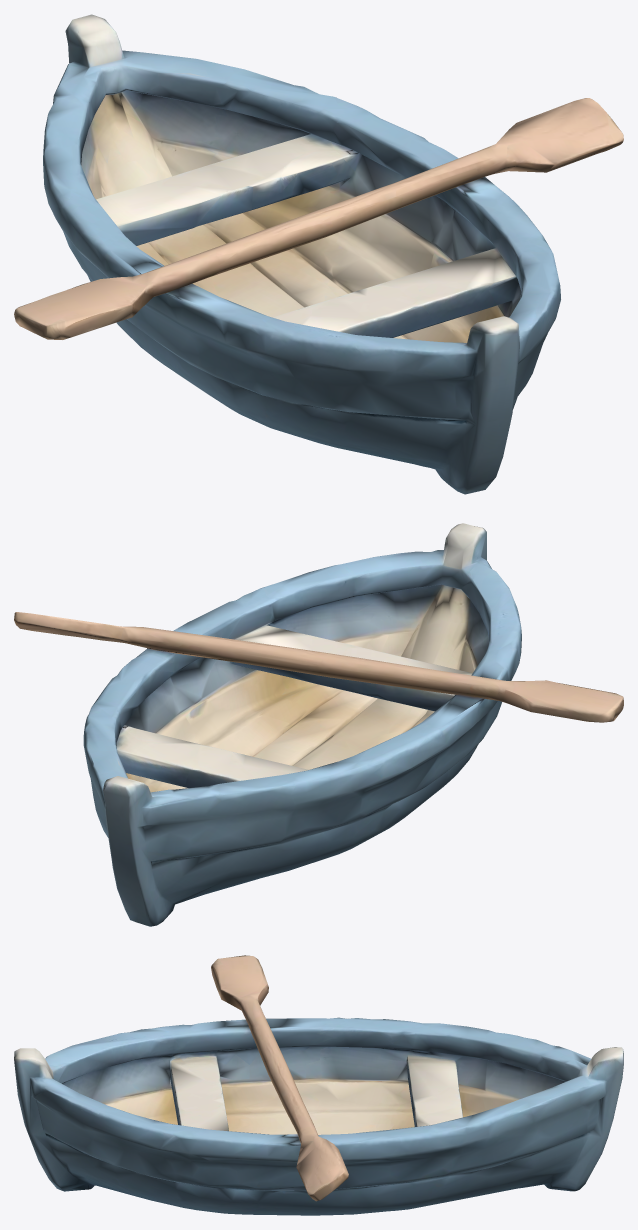
Rendered from rowboat.glb.
3 renders of one model, top to bottom at view 1: azimuth 30°, elevation 25°; view 2: azimuth 150°, elevation 25°; view 3: azimuth 270°, elevation 25°, orthographic. The views are drawn at different scales.
Parts seen in each view (by area): view 1: tripo_node_c95651a3-e7e8-4be3-afa3-cbb469aa3074; view 2: tripo_node_c95651a3-e7e8-4be3-afa3-cbb469aa3074; view 3: tripo_node_c95651a3-e7e8-4be3-afa3-cbb469aa3074.
Boxes of the visible parts, x1,y1,x2,y2 form: tripo_node_c95651a3-e7e8-4be3-afa3-cbb469aa3074: [14, 14, 623, 494]; tripo_node_c95651a3-e7e8-4be3-afa3-cbb469aa3074: [14, 523, 623, 926]; tripo_node_c95651a3-e7e8-4be3-afa3-cbb469aa3074: [14, 955, 623, 1215].
Size of the model in its own units: 0.8874 by 0.2445 by 1.
Materials: 1 (1 with a texture image).
